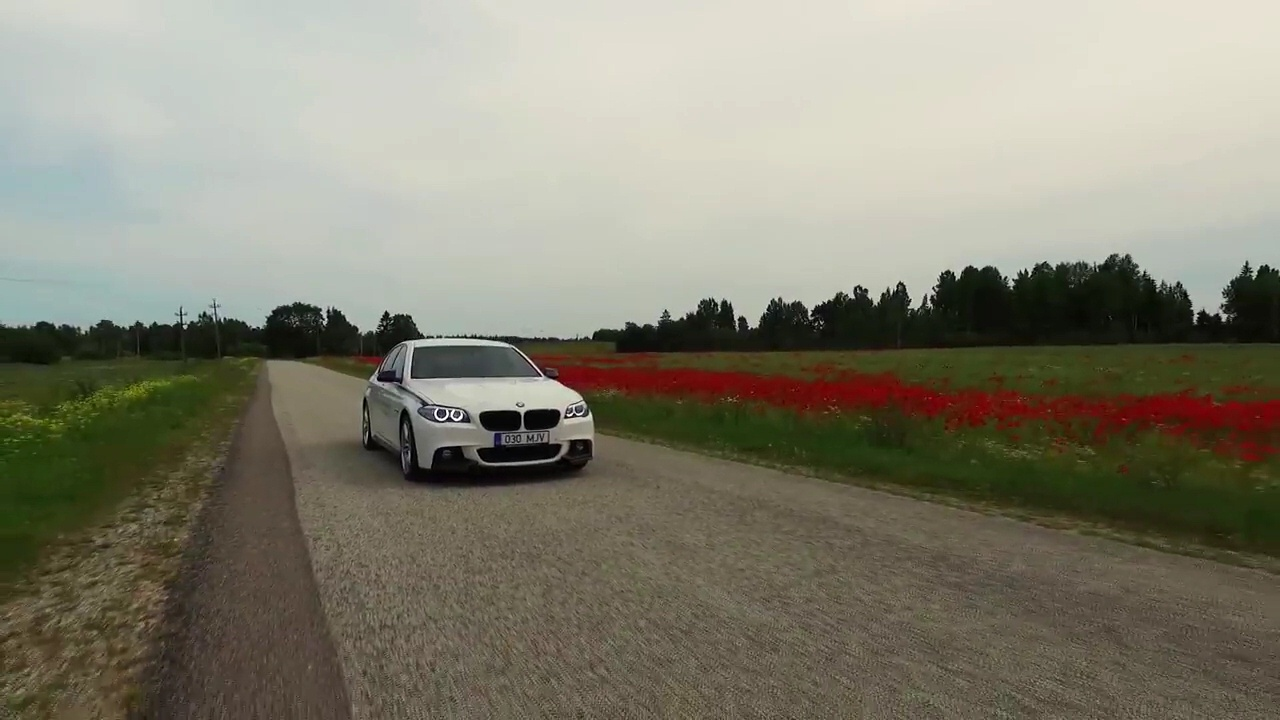araba: (360, 336, 599, 483)
